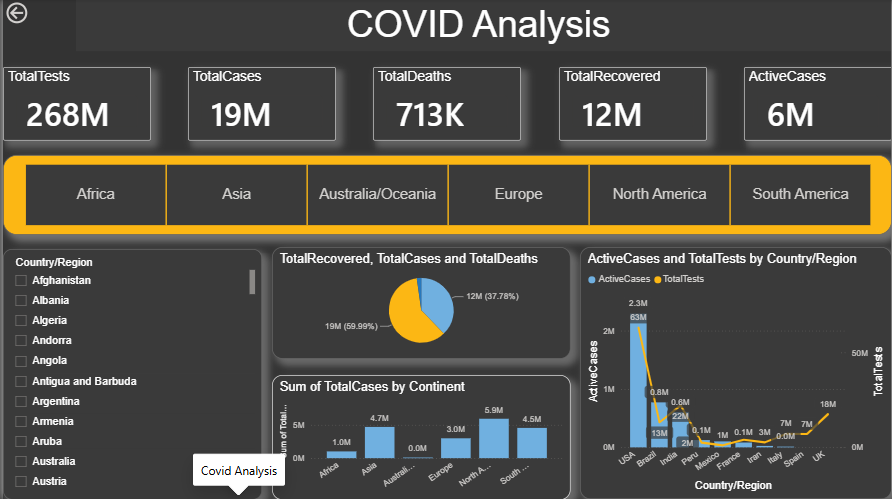

The page's visual inventory and layout, read from the dashboard file:
{"tool":"powerbi","page":{"name":"Covid Analysis","canvas":[1280,720],"ordinal":1},"visuals":[{"type":"cardVisual","title":"TotalTests","fields":{"Data":["Sum(Power view_Assignment_worldometer_data.TotalTests)"]},"box":[0,98.4,213,105.6],"z":0},{"type":"actionButton","box":[0,0,100,40],"z":1000},{"type":"cardVisual","title":"TotalRecovered","fields":{"Data":["Sum(Power view_Assignment_worldometer_data.TotalRecovered)"]},"box":[800.2,98.4,213,105.6],"z":2000},{"type":"cardVisual","title":"TotalCases","fields":{"Data":["Sum(Power view_Assignment_worldometer_data.TotalCases)"]},"box":[266.7,98.4,213,105.6],"z":3000},{"type":"cardVisual","title":"TotalDeaths","fields":{"Data":["Sum(Power view_Assignment_worldometer_data.TotalDeaths)"]},"box":[533.5,98.4,213,105.6],"z":4000},{"type":"cardVisual","title":"ActiveCases","fields":{"Data":["Sum(Power view_Assignment_worldometer_data.ActiveCases)"]},"box":[1067,98.4,213,105.6],"z":5000},{"type":"slicer","fields":{"Values":["Power view_Assignment_worldometer_data.Continent"]},"box":[0,224.3,1280,115],"z":6000},{"type":"slicer","fields":{"Values":["Power view_Assignment_worldometer_data.Country/Region"]},"box":[0,359.5,372.9,361.2],"z":7000},{"type":"pieChart","fields":{"Y":["Sum(Power view_Assignment_worldometer_data.TotalRecovered)","Sum(Power view_Assignment_worldometer_data.TotalCases)","Sum(Power view_Assignment_worldometer_data.TotalDeaths)"]},"box":[388,357.8,430,161.3],"z":8000},{"type":"columnChart","fields":{"Category":["Power view_Assignment_worldometer_data.Continent","Power view_Assignment_worldometer_data.Country/Region"],"Y":["Sum(Power view_Assignment_worldometer_data.TotalCases)"]},"box":[388,540.9,430,179.7],"z":9000},{"type":"lineClusteredColumnComboChart","fields":{"Category":["Power view_Assignment_worldometer_data.Country/Region"],"Y":["Sum(Power view_Assignment_worldometer_data.ActiveCases)"],"Y2":["Sum(Power view_Assignment_worldometer_data.TotalTests)"]},"box":[831.5,357.8,448.5,362.8],"z":10000},{"type":"textbox","box":[105.8,0,1174.2,75.3],"z":11000}]}

Visuals, with their boxes in screenshot pixels (x1, y1, x2, y2), scaled from the page's 1280x720 canvas onto the 892x499 screenshot:
"TotalTests" cardVisual: 0,68,148,141
actionButton: 0,0,70,28
"TotalRecovered" cardVisual: 558,68,706,141
"TotalCases" cardVisual: 186,68,334,141
"TotalDeaths" cardVisual: 372,68,520,141
"ActiveCases" cardVisual: 744,68,891,141
slicer - Power view_Assignment_worldometer_data.Continent: 0,155,891,235
slicer - Power view_Assignment_worldometer_data.Country/Region: 0,249,260,498
pieChart - Sum(Power view_Assignment_worldometer_data.TotalRecovered) x Sum(Power view_Assignment_worldometer_data.TotalCases): 270,248,570,360
columnChart - Power view_Assignment_worldometer_data.Continent x Power view_Assignment_worldometer_data.Country/Region: 270,375,570,498
lineClusteredColumnComboChart - Power view_Assignment_worldometer_data.Country/Region x Sum(Power view_Assignment_worldometer_data.ActiveCases): 579,248,891,498
textbox: 74,0,891,52
